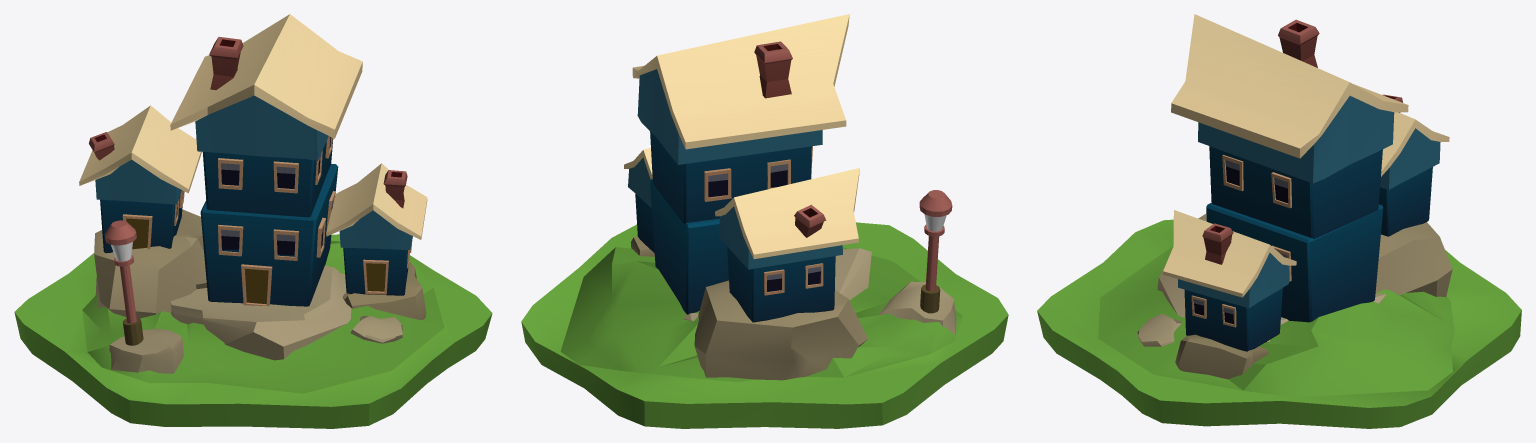
File: Hillside_City.fbx
3 views of the same model, side by side, from view 1: azimuth 30°, elevation 25°; view 2: azimuth 150°, elevation 25°; view 3: azimuth 270°, elevation 25° (orthographic). The views are drawn at different scales.
Parts seen in each view (by area): view 1: Hillside_City; view 2: Hillside_City; view 3: Hillside_City.
Boxes of the visible parts, <box> form: Hillside_City: <box>14,14,492,428</box>; Hillside_City: <box>521,14,1008,428</box>; Hillside_City: <box>1037,14,1521,428</box>.
Bounding box in the file's own units: 0.9239 × 0.7176 × 1.02.
